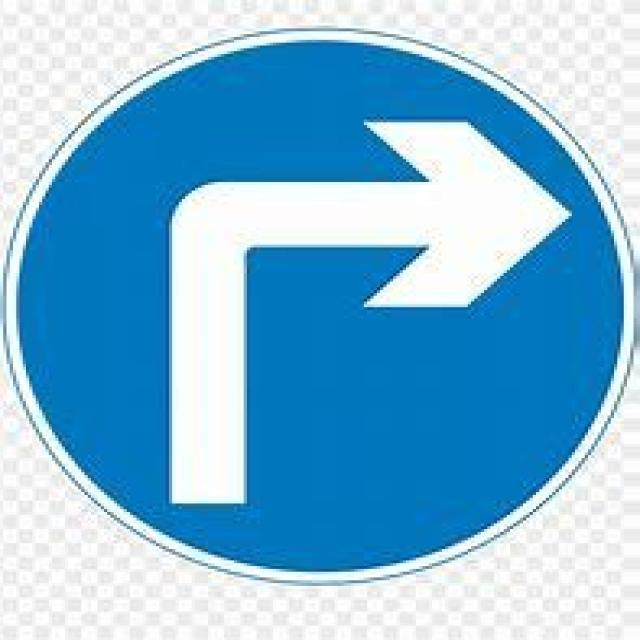compulsary turn right ahead: (26, 39, 620, 569)
